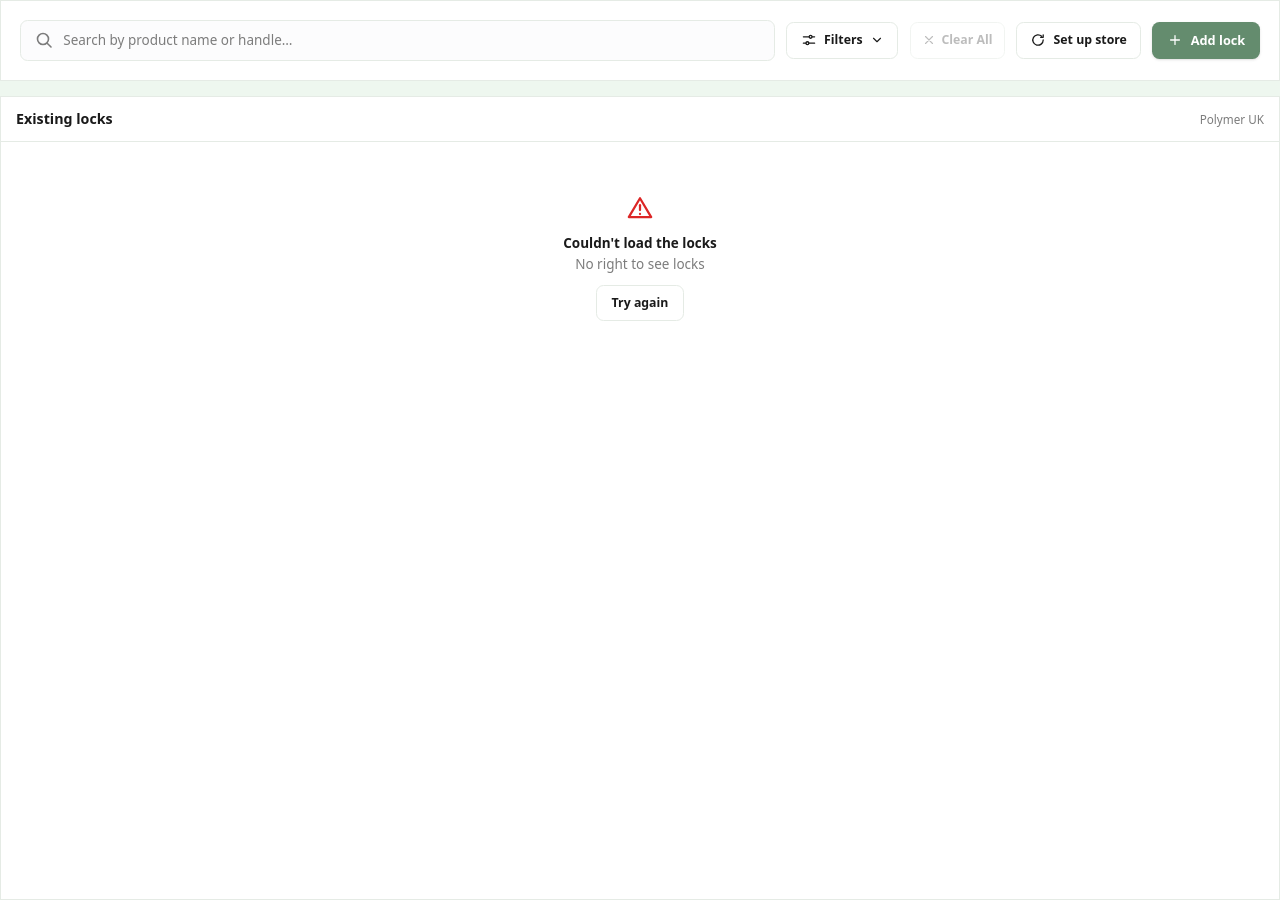
Scenario: LocksPage › list › shows the backend’s message when the list cannot load, and tries again
Expected: the text "No right to see locks" is shown, [575,255,705,273]
Click the button "Try again": coordinates (640, 303) [596,285,684,320]
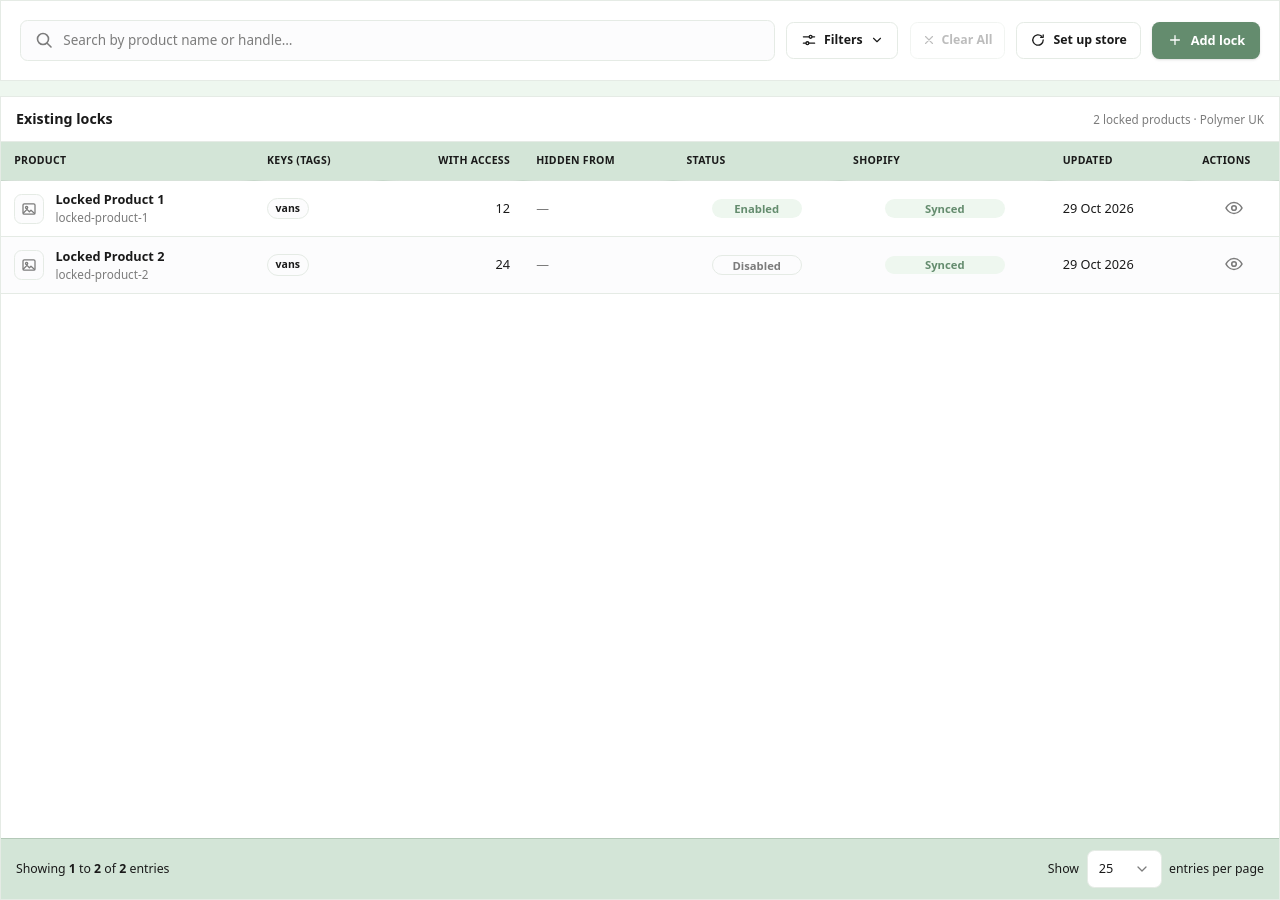
Expected: the button "Locked Product 1" is shown, [55,190,164,209]
